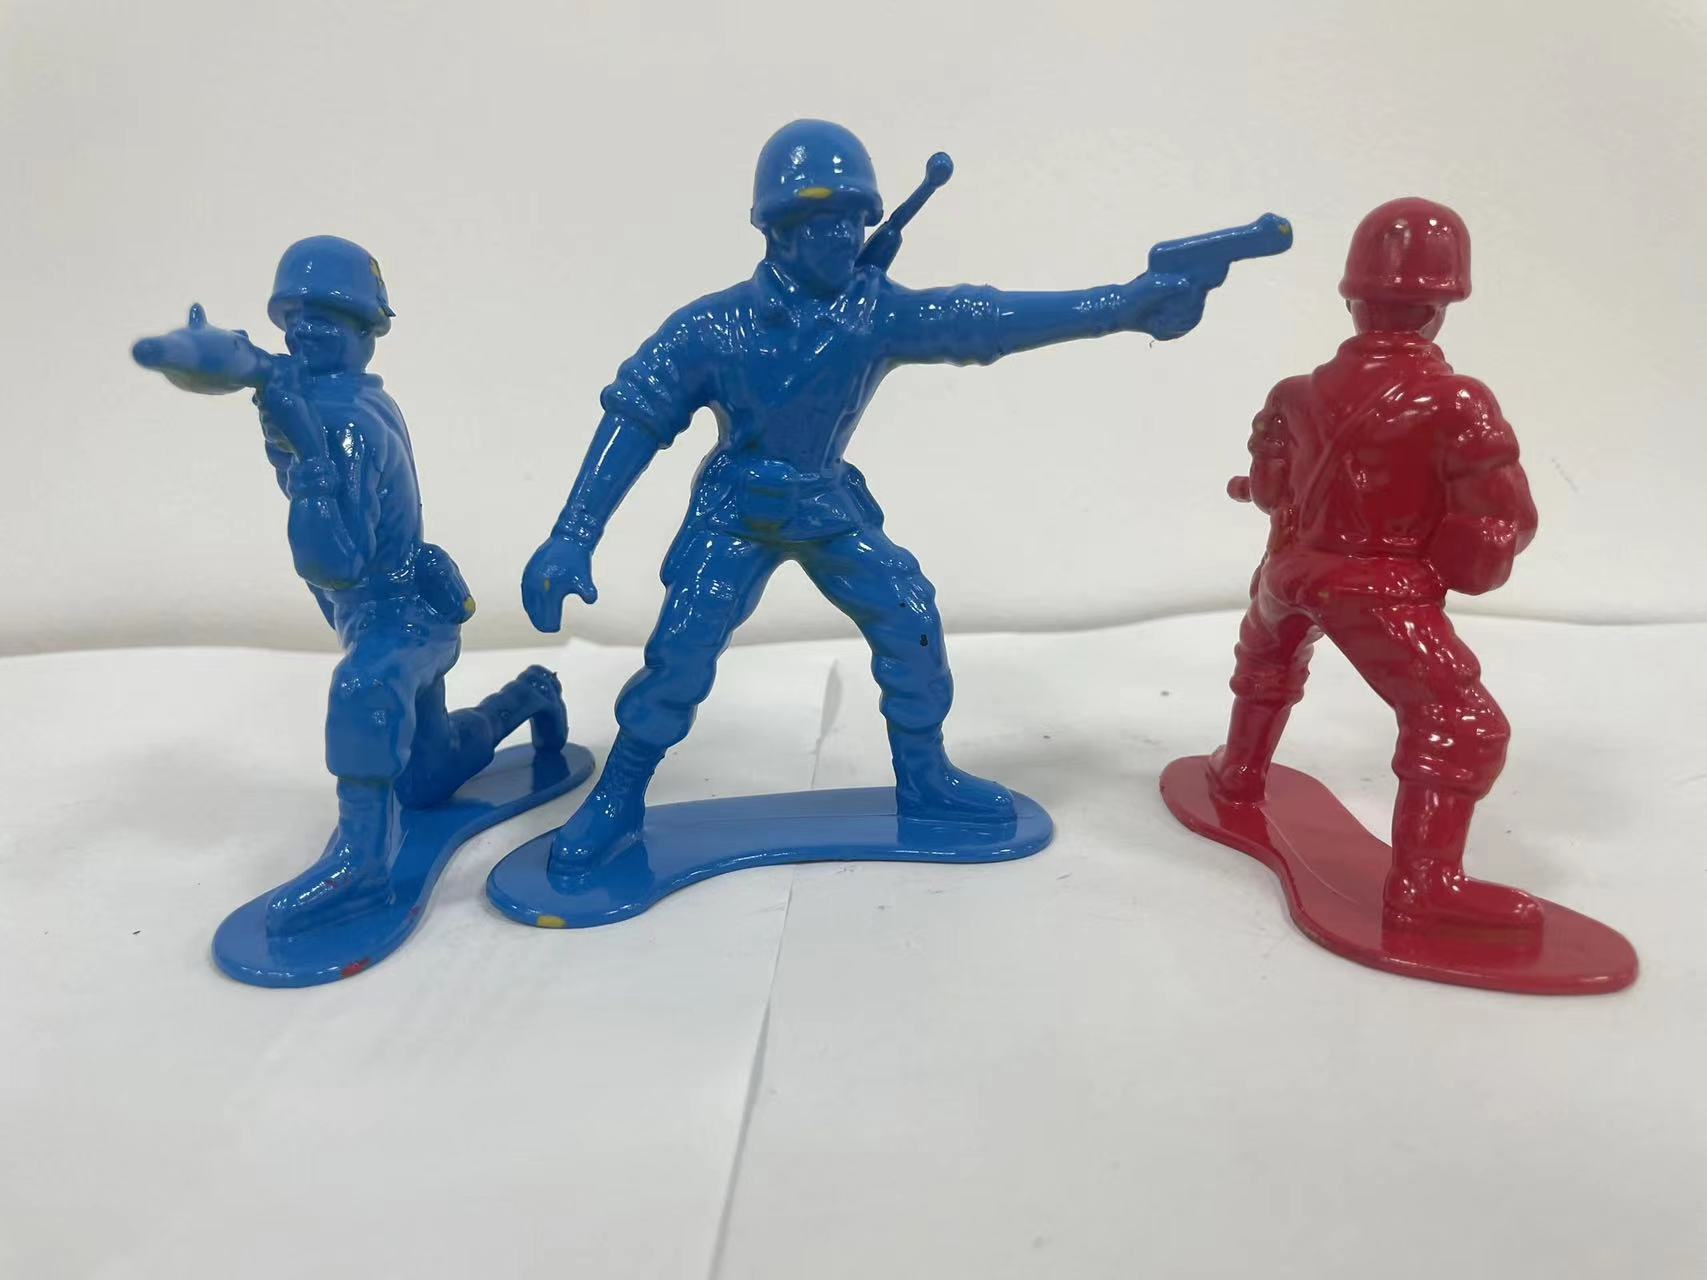blue: (476, 98, 1226, 980), (133, 216, 562, 1011)
red: (1200, 157, 1668, 1050)
